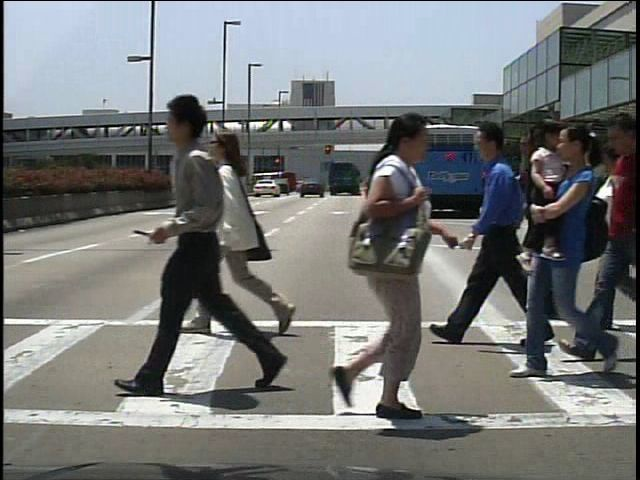person: (133, 79, 307, 420), (320, 113, 450, 424), (176, 118, 308, 343), (451, 116, 539, 345), (501, 130, 574, 322), (599, 143, 635, 348), (582, 168, 602, 218), (488, 162, 506, 215)
